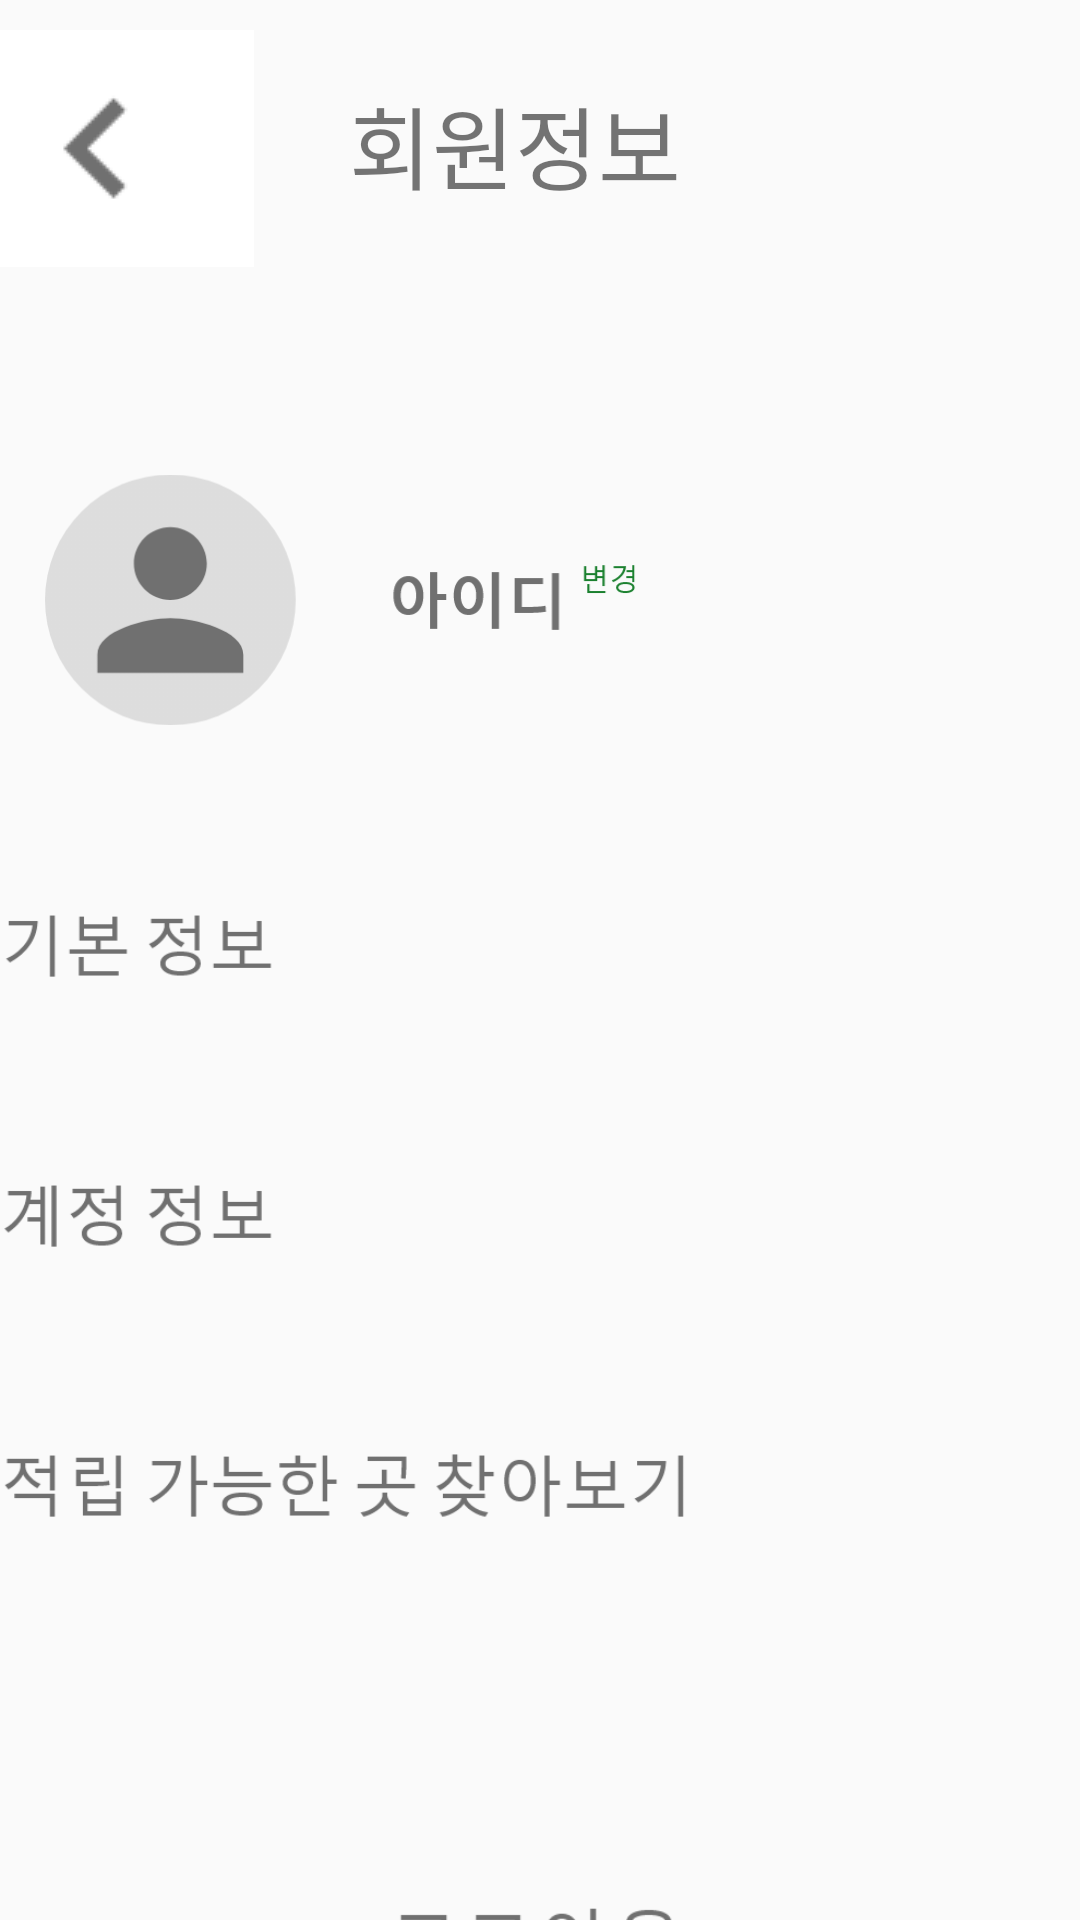

Where icons sit on this 1080px x 1920px app screen, as box(x1, y1, x2, y2):
back: box(63, 98, 126, 199)
